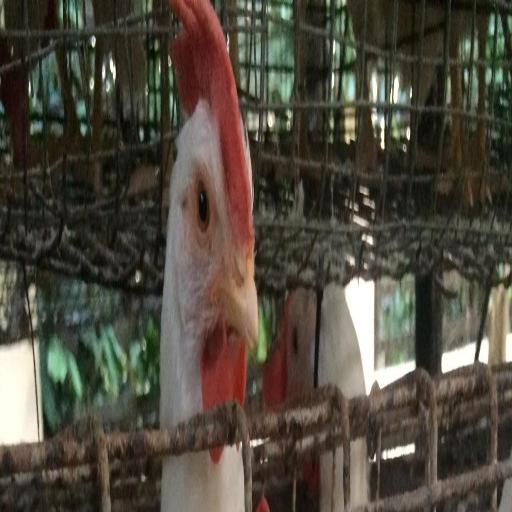healthy: (178, 61, 264, 408)
